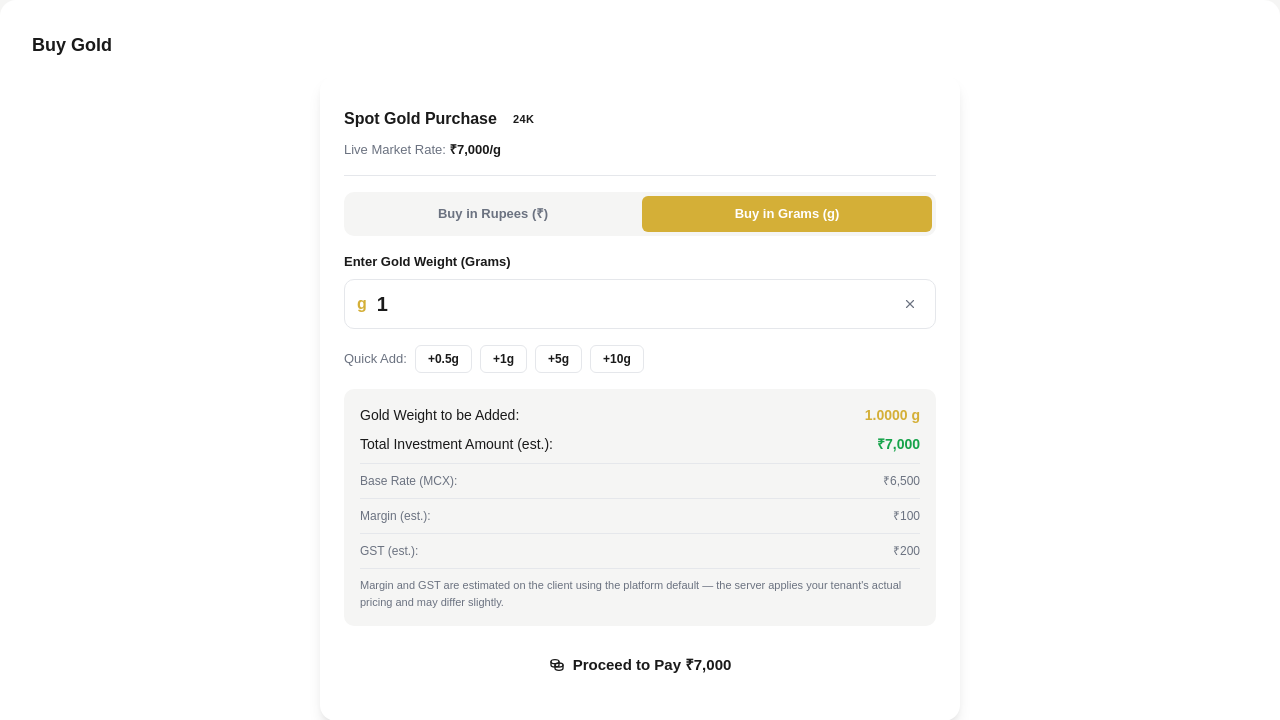
BuyGold KYC limit message › links to the KYC page when the limit is exceeded and KYC is not done
Replace the text in the field labelled "Enter Gold Weight (Grams)" with "10". click: {"x": 632, "y": 304}
box: [375,288,889,320]
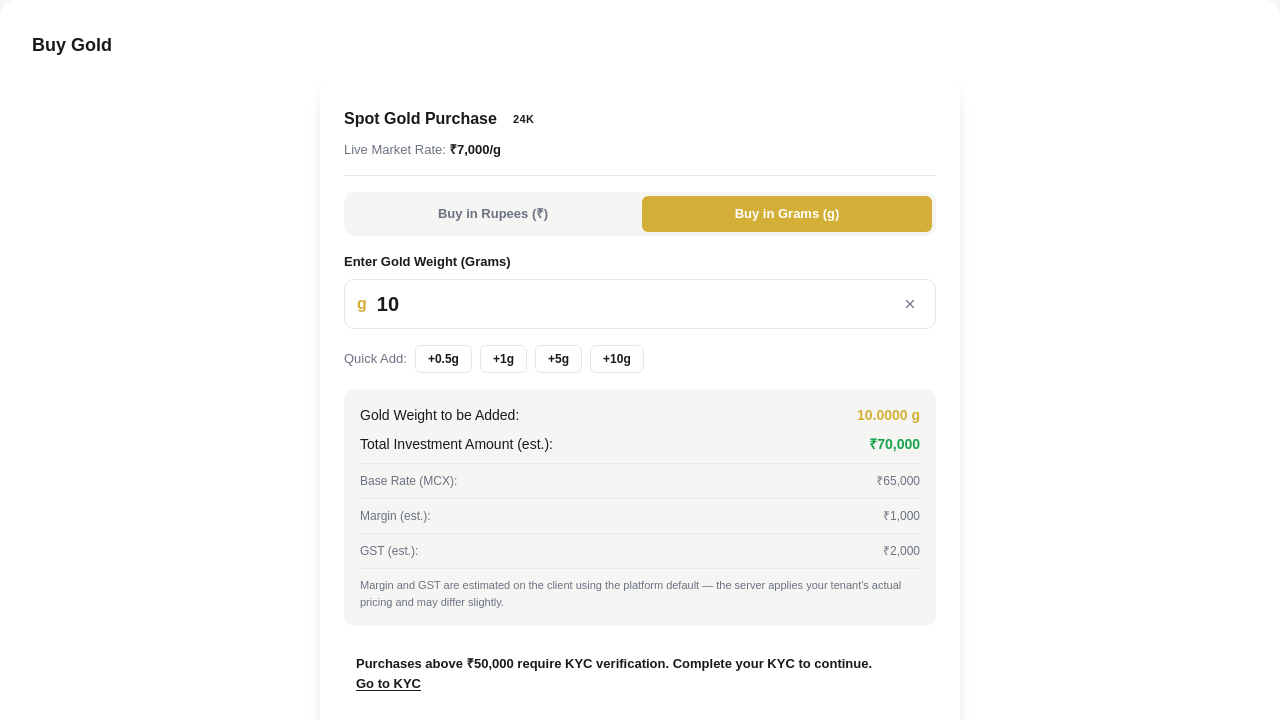
Now the text "require KYC verification" is shown, box [356,656,669,671]
